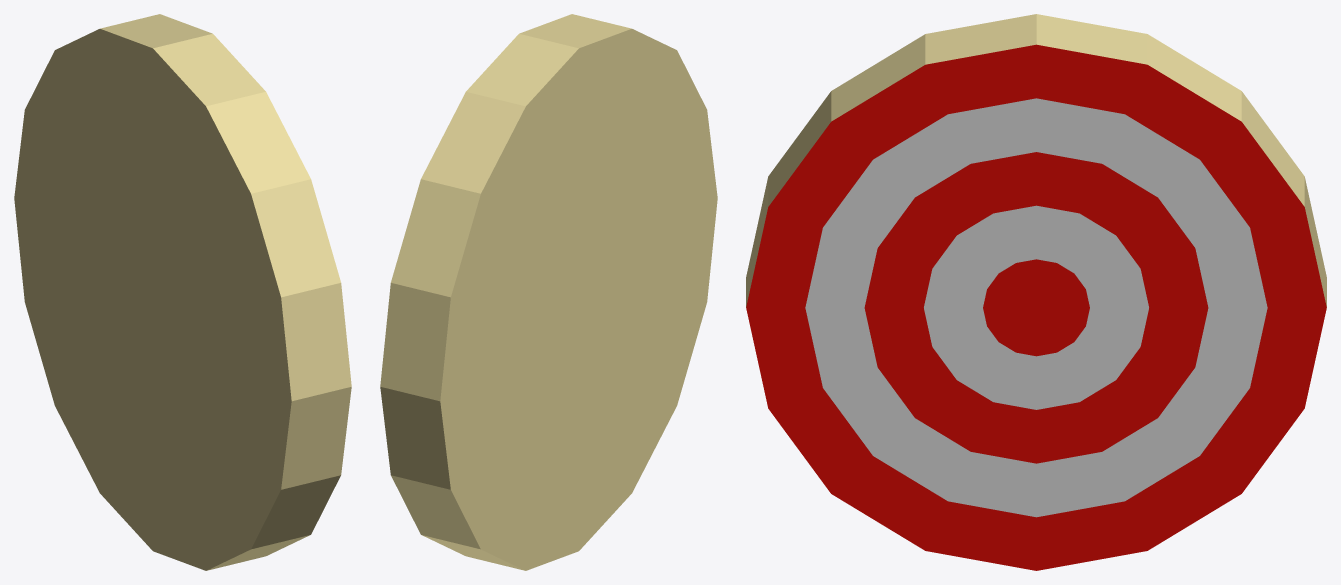
File: cible.glb
3 renders of one model, left to right at view 1: azimuth 30°, elevation 25°; view 2: azimuth 150°, elevation 25°; view 3: azimuth 270°, elevation 25°, orthographic. The views are drawn at different scales.
Visible parts, largest first — view 1: Cylinder; view 2: Cylinder; view 3: Cylinder.
Boxes of the visible parts, x1,y1,x2,y2 form: Cylinder: [14, 14, 351, 570]; Cylinder: [380, 14, 717, 570]; Cylinder: [746, 14, 1326, 570].
Size of the model in its own units: 0.25 by 2 by 2.
